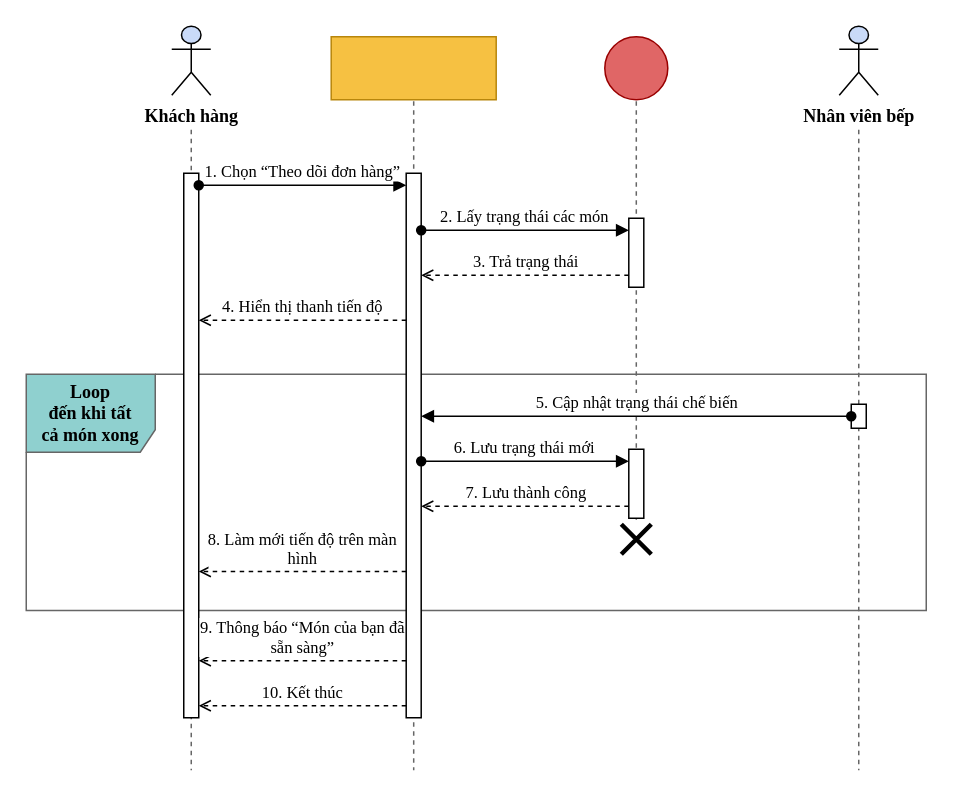
Some shapes in this 953 by 798 pixel diagram are drawn without their labels. The centre of each missing label's shape, as x and y in pixels:
"CSDL" goes at [635,67].
"HỆ THỐNG" goes at [413,67].
